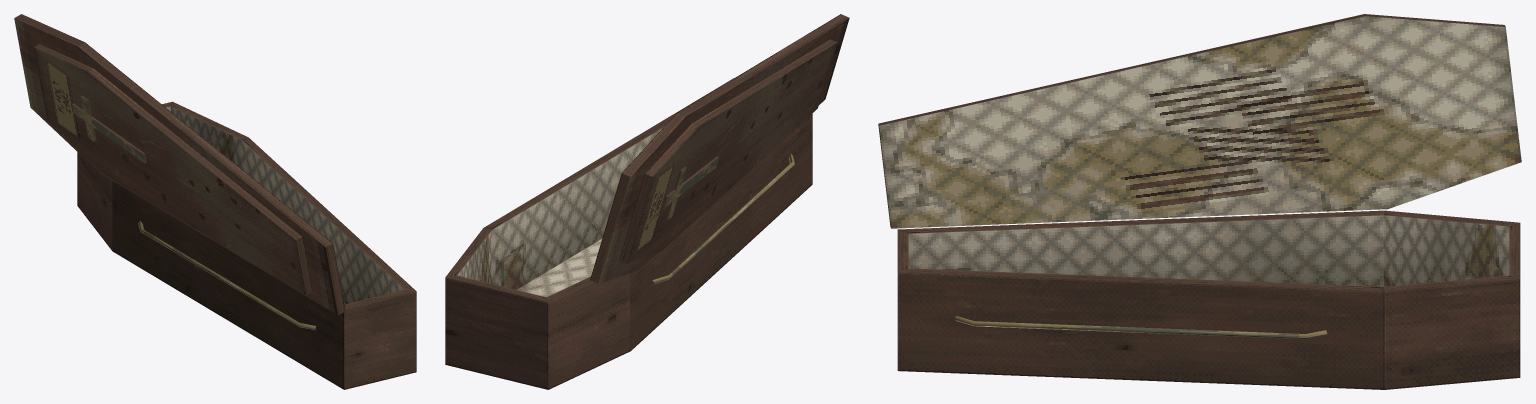
The model's file is coffin_open.glb.
3 renders of one model, left to right at view 1: azimuth 30°, elevation 25°; view 2: azimuth 150°, elevation 25°; view 3: azimuth 270°, elevation 25°, orthographic. The views are drawn at different scales.
Visible parts, largest first — view 1: coffin_open; view 2: coffin_open; view 3: coffin_open.
Part boxes in pixels (x1=…): coffin_open: x1=14, y1=14, x2=416, y2=389; coffin_open: x1=445, y1=14, x2=849, y2=389; coffin_open: x1=878, y1=14, x2=1521, y2=389.
Size of the model in its own units: 0.839 by 0.94 by 2.01.
Materials: 1 (1 with a texture image).
